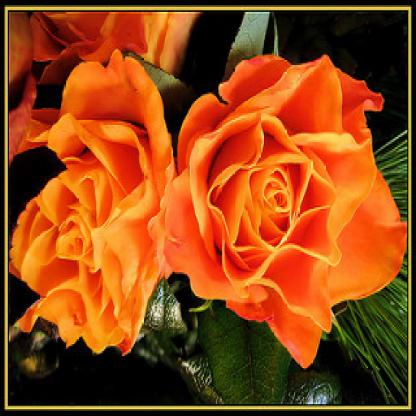ROSE-MAWAR: (9, 15, 403, 371)
